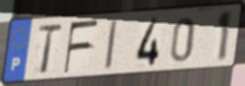0: (168, 16, 199, 64)
1: (215, 9, 233, 64)
4: (134, 15, 161, 69)
F: (62, 18, 101, 76)
I: (103, 17, 120, 72)
T: (35, 22, 64, 77)
